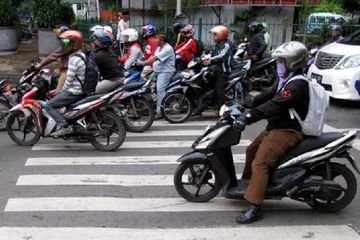motor: (176, 109, 357, 220), (6, 72, 129, 152)
